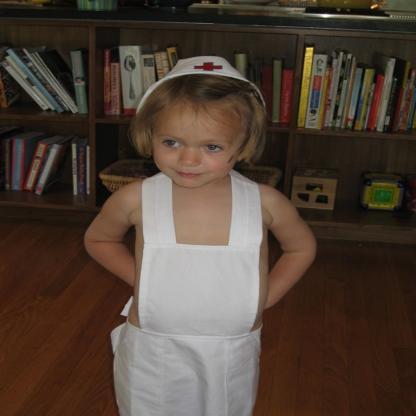book: (96, 40, 292, 127), (295, 41, 415, 130), (0, 135, 93, 207), (0, 43, 87, 116)
